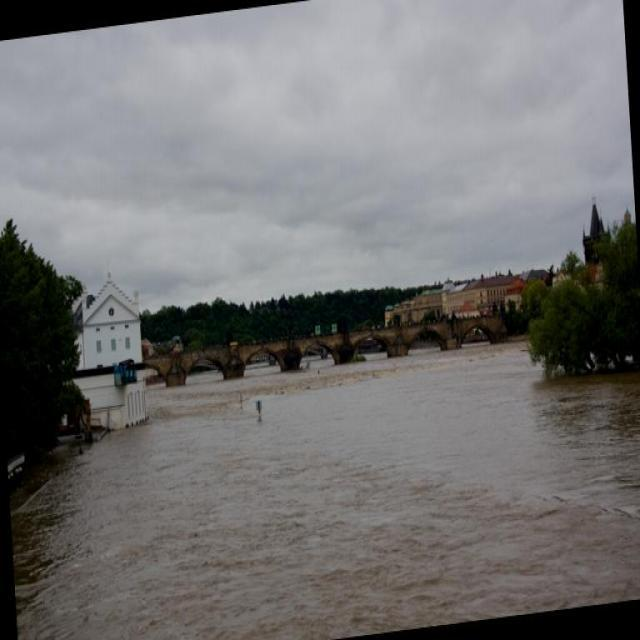flood: (3, 296, 639, 639)
